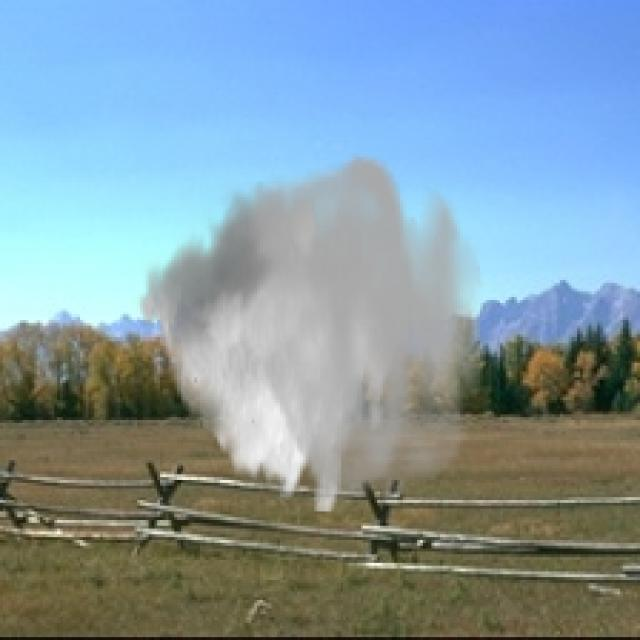Smoke: (137, 148, 486, 512)
